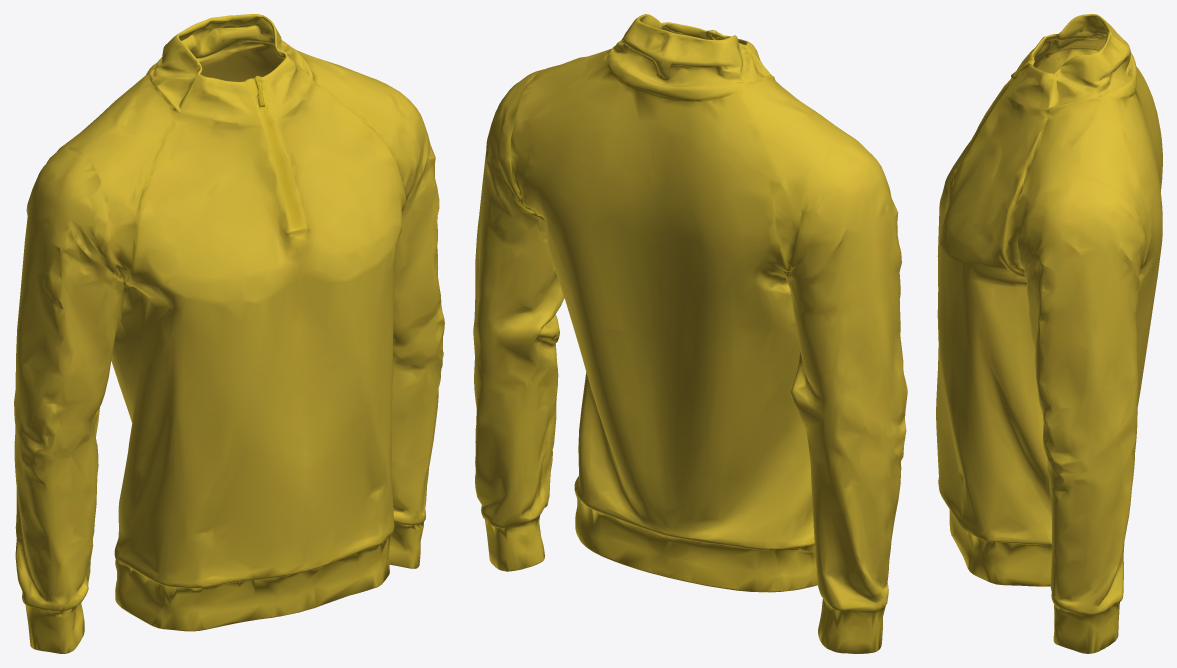
3 renders of one model, left to right at view 1: azimuth 30°, elevation 25°; view 2: azimuth 150°, elevation 25°; view 3: azimuth 270°, elevation 25°, orthographic. The views are drawn at different scales.
Parts seen in each view (by area): view 1: tripo_node_1ae336d4-3b6b-4004-8d88-bbfb4c876475; view 2: tripo_node_1ae336d4-3b6b-4004-8d88-bbfb4c876475; view 3: tripo_node_1ae336d4-3b6b-4004-8d88-bbfb4c876475.
Part boxes in pixels (x1=…): tripo_node_1ae336d4-3b6b-4004-8d88-bbfb4c876475: x1=14, y1=14, x2=444, y2=653; tripo_node_1ae336d4-3b6b-4004-8d88-bbfb4c876475: x1=473, y1=14, x2=907, y2=653; tripo_node_1ae336d4-3b6b-4004-8d88-bbfb4c876475: x1=936, y1=14, x2=1162, y2=653.
Size of the model in its own units: 0.748 by 1 by 0.3841.
1 material, 1 textured.
